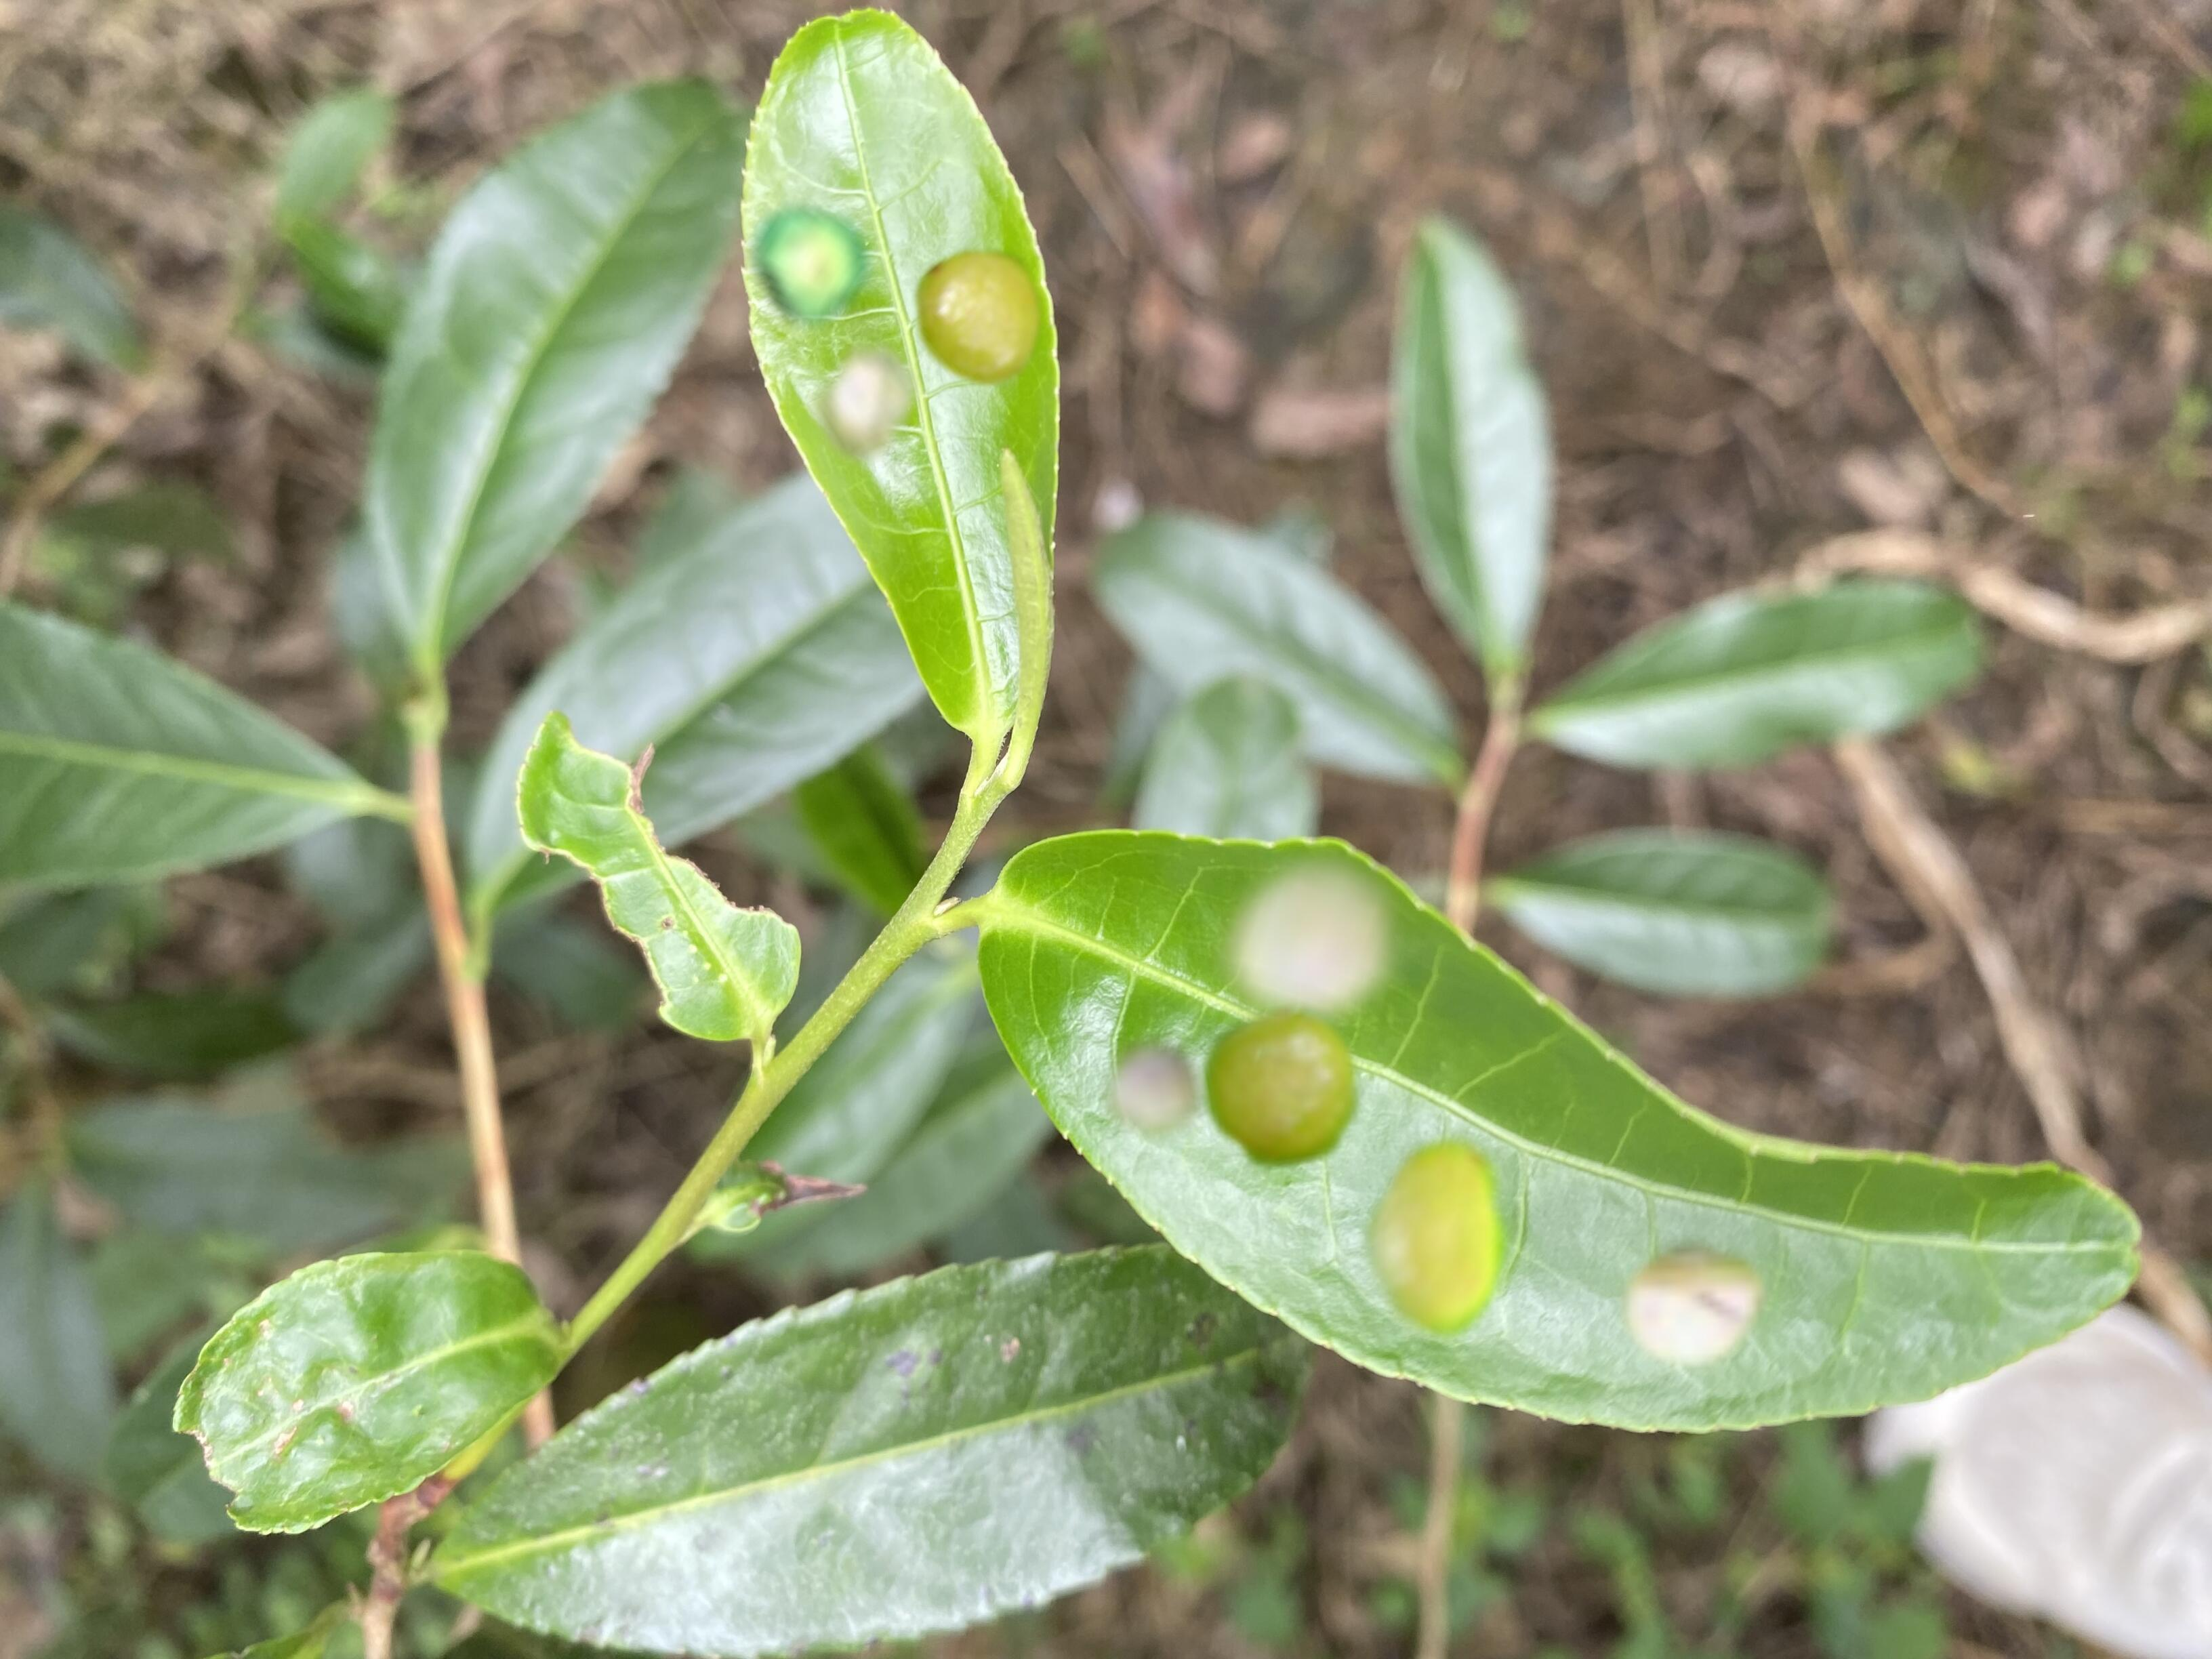chabing_high: (979, 829, 2144, 1434), (733, 5, 1064, 741)
chihuo_high: (514, 708, 803, 1040)
